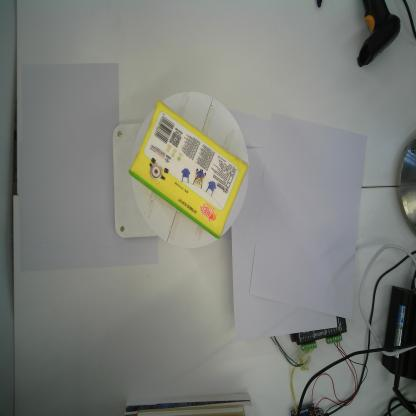Tissue: (127, 98, 251, 242)
